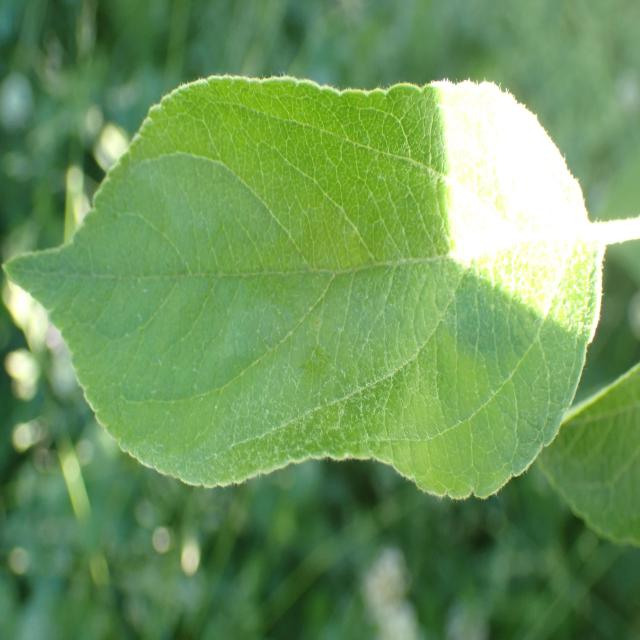healthy: (1, 74, 602, 500), (538, 361, 640, 547)
